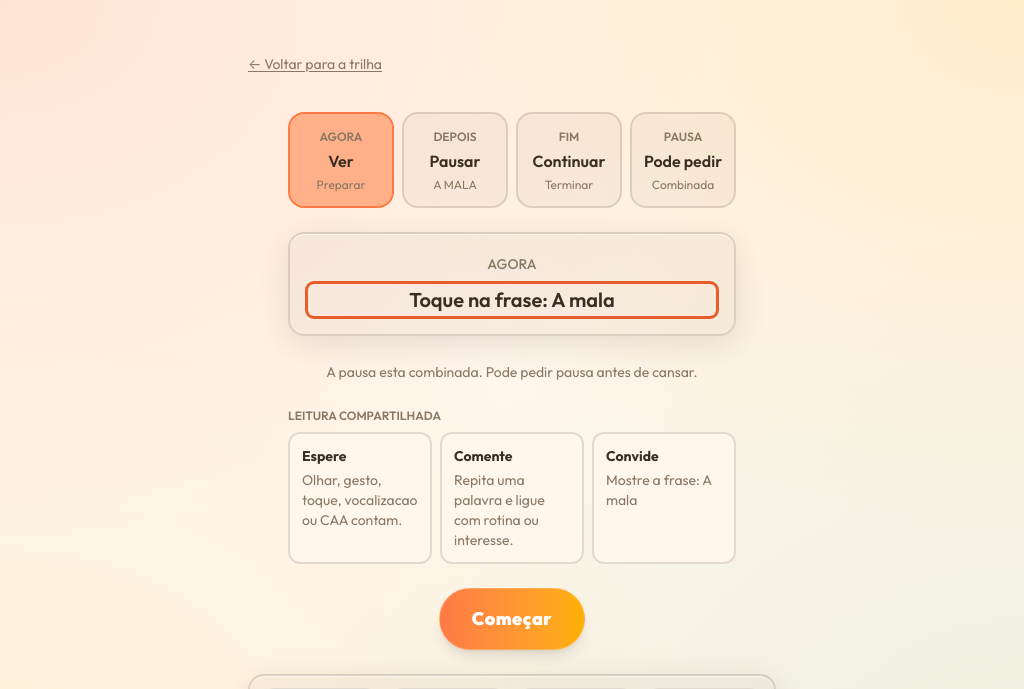
Test case: Atividade › renderiza leitura de frase pelo tipo de atividade da trilha
Expected: the text "Toque na frase: A mala" is shown, [409,287,615,312]
Click the button "Começar": [512, 619] box [439,588,585,650]
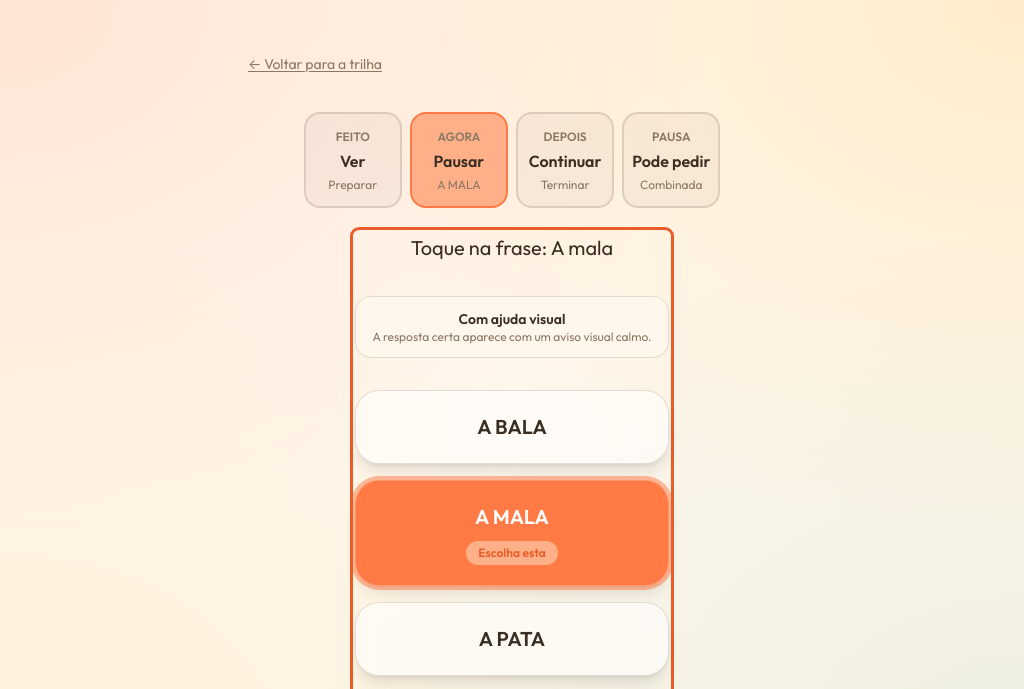
Expected: the button named "A MALA. Escolha esta" is shown, [355,480,669,586]
